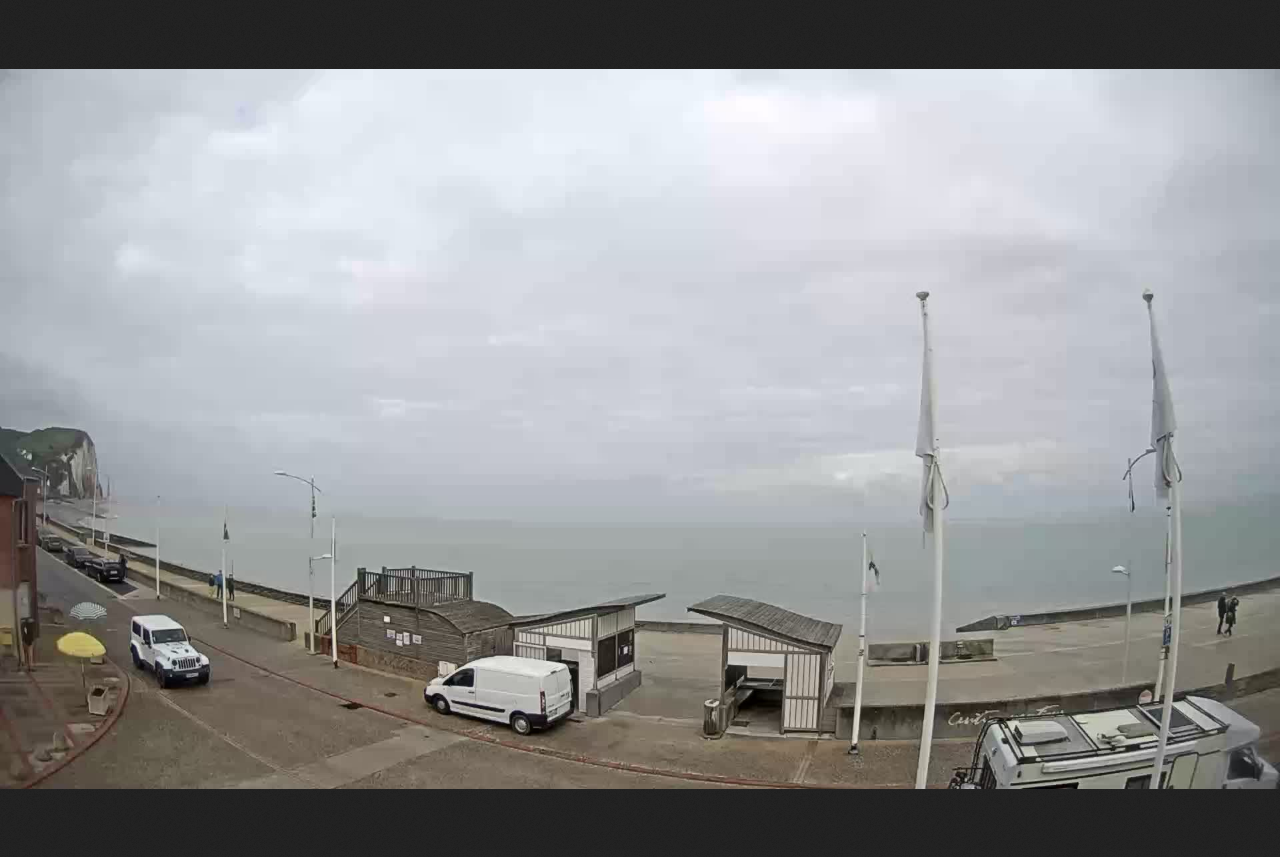no: (905, 277, 955, 544), (1138, 282, 1195, 512), (860, 528, 883, 601)
